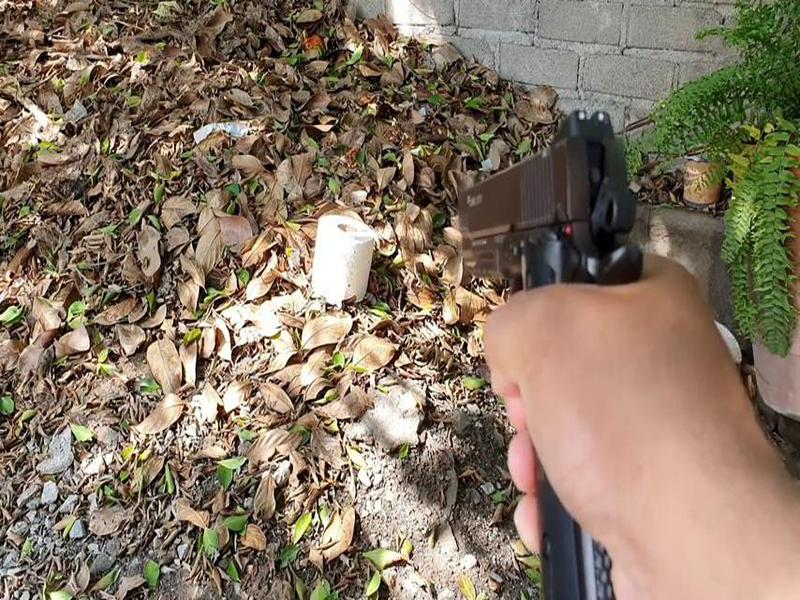Pistola: (433, 108, 722, 482)
